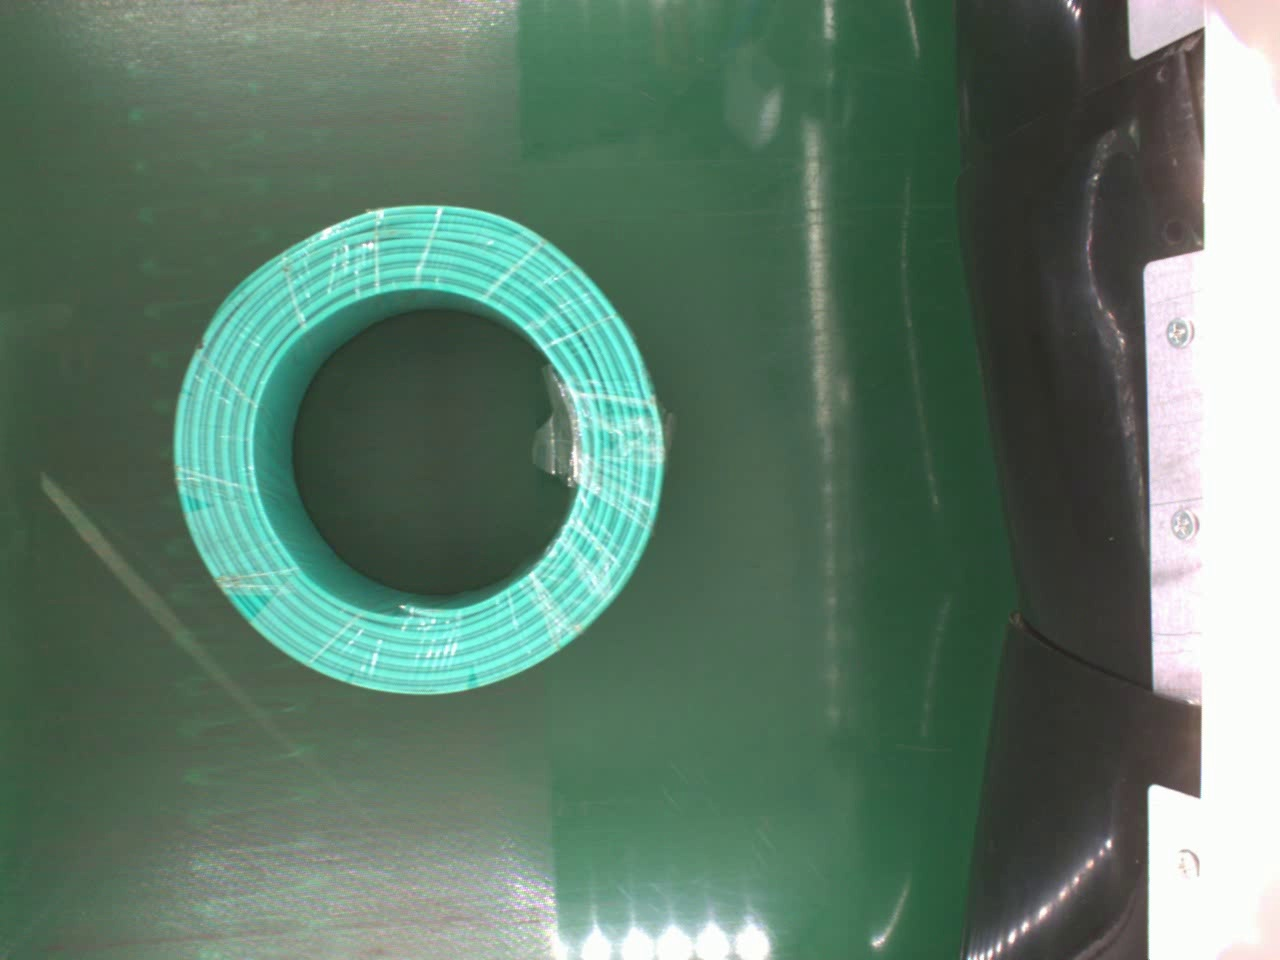green: (167, 200, 676, 693)
